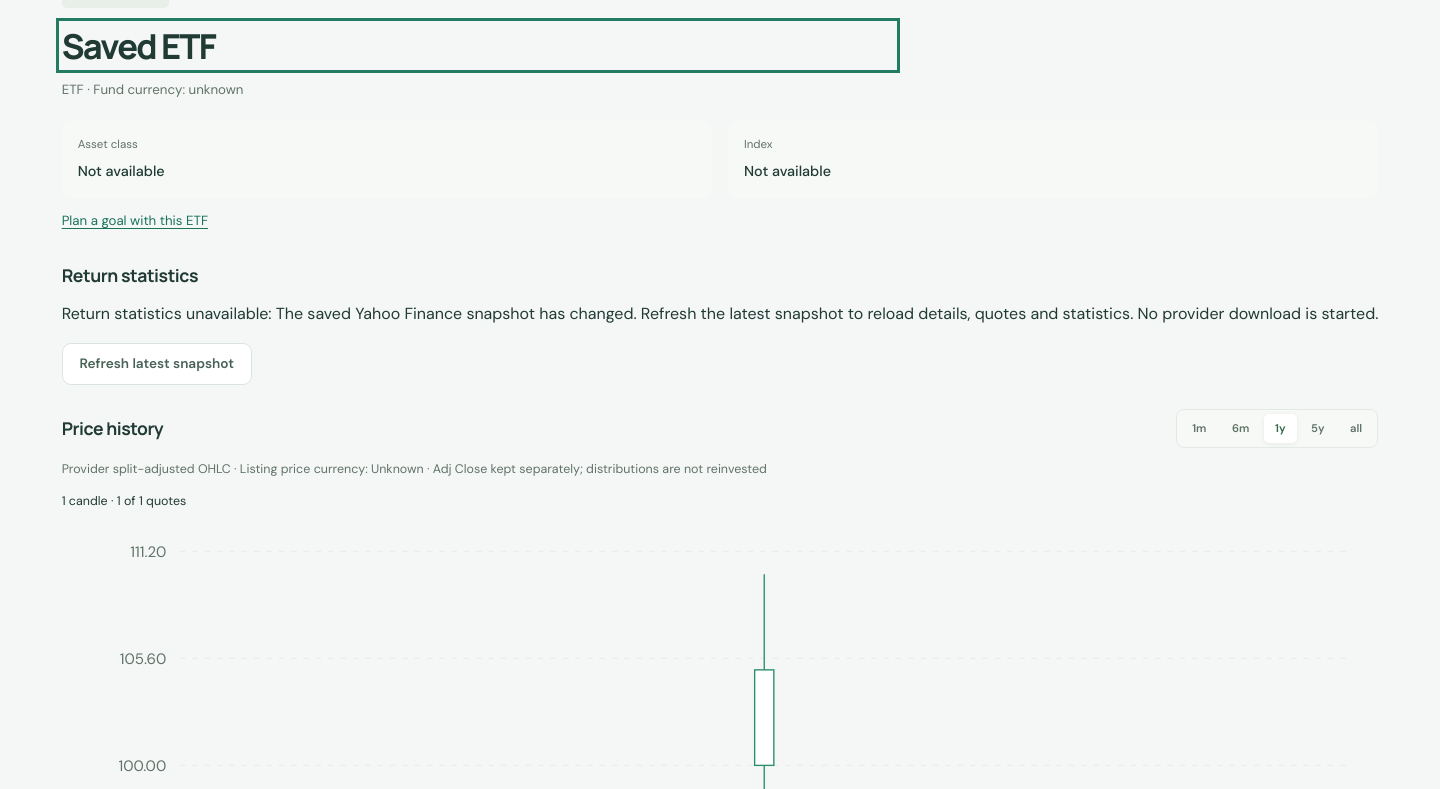
Scenario: explicit latest-snapshot refresh › refreshes details and both reads explicitly after a statistics 409
Expected: the text "The saved Yahoo Finance snapshot has changed" shows "No provider download is started", [276,303,1378,324]
Click the button "Refresh latest snapshot".
click(157, 364)  # box [62,343,252,385]
(page scrolled)
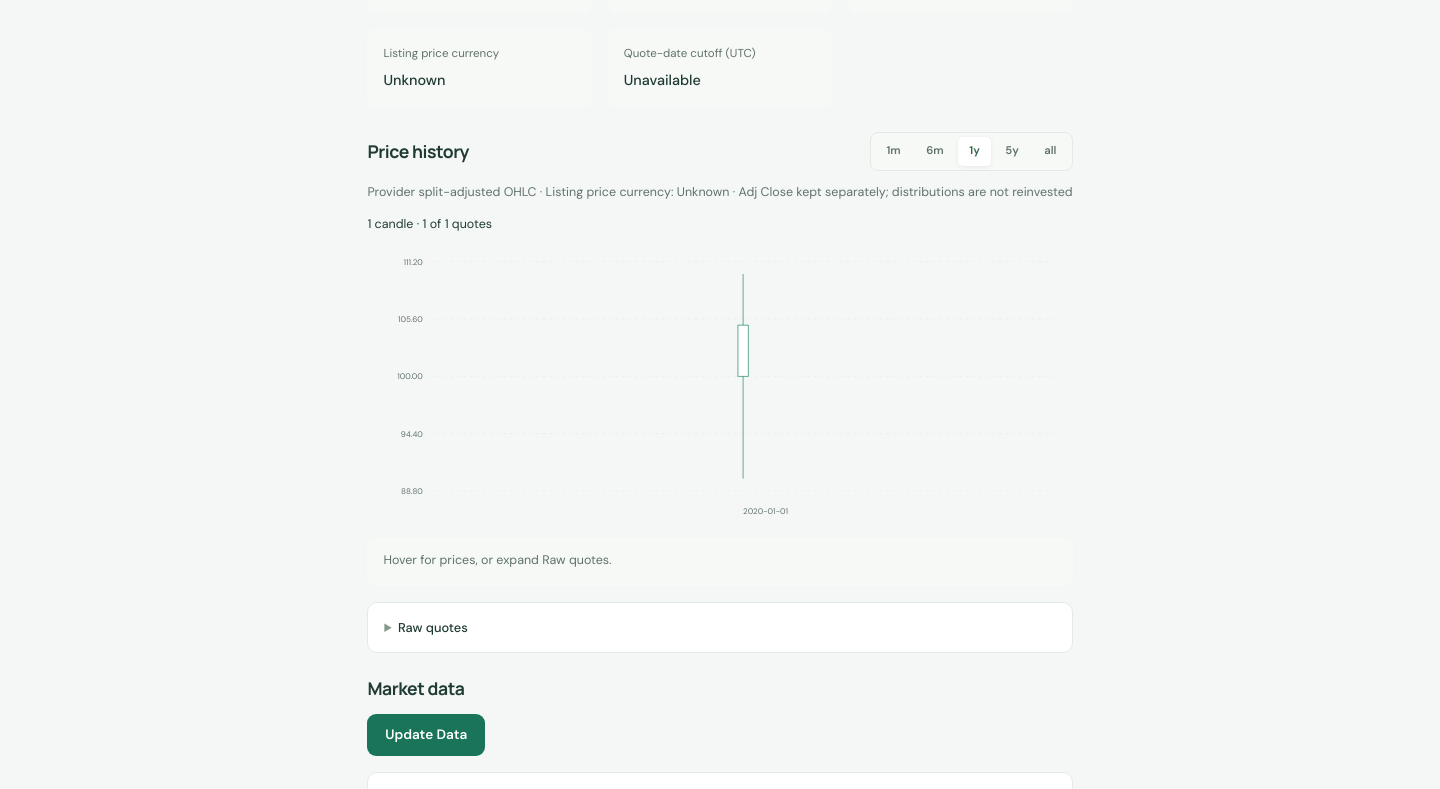
Expected: the picture named "Provider split-adjusted OHLC" is shown, [367,247,1073,526]
Now the text "snapshot has changed" is gone
